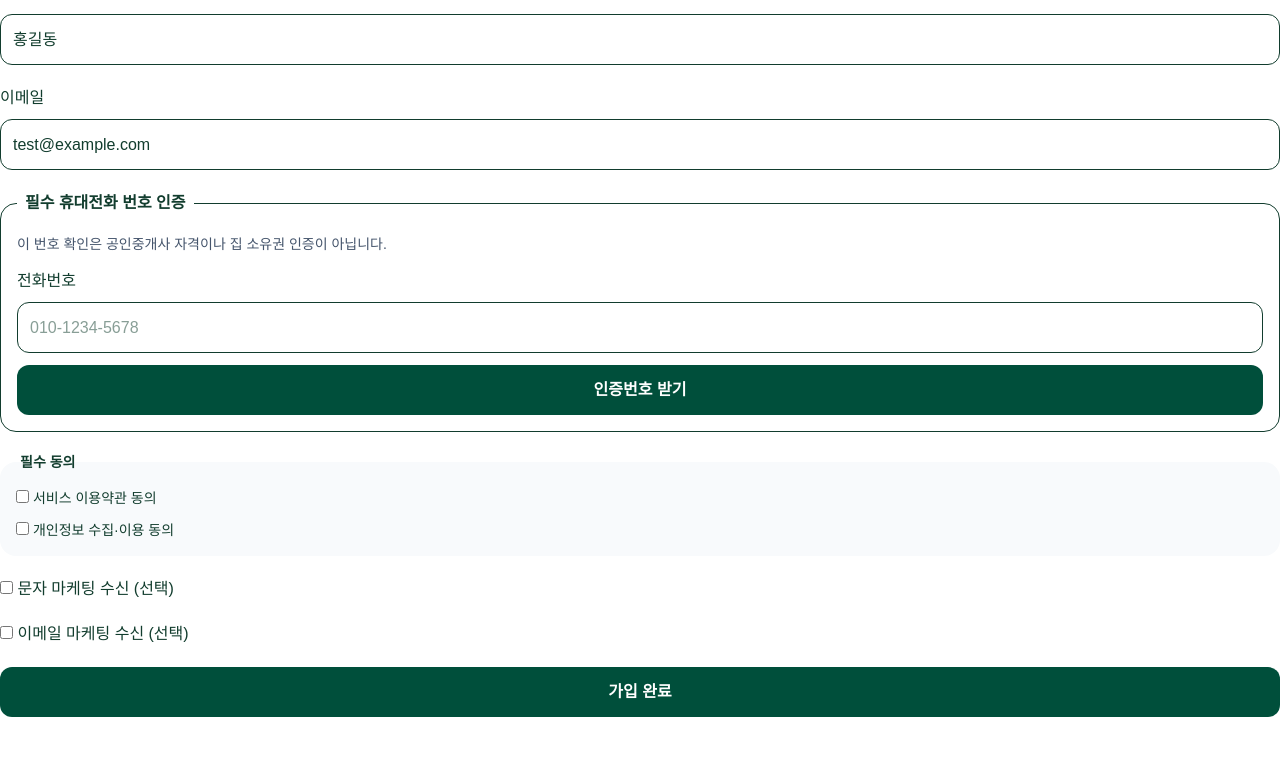
Test: VerificationForm › TEST-ZSD-AUTH-002 explains when the SMS provider is unavailable
This screenshot has width=1280, height=780.
Type "01012345678" into the field labelled "전화번호". click: (640, 327)
box: [17,302,1263,353]
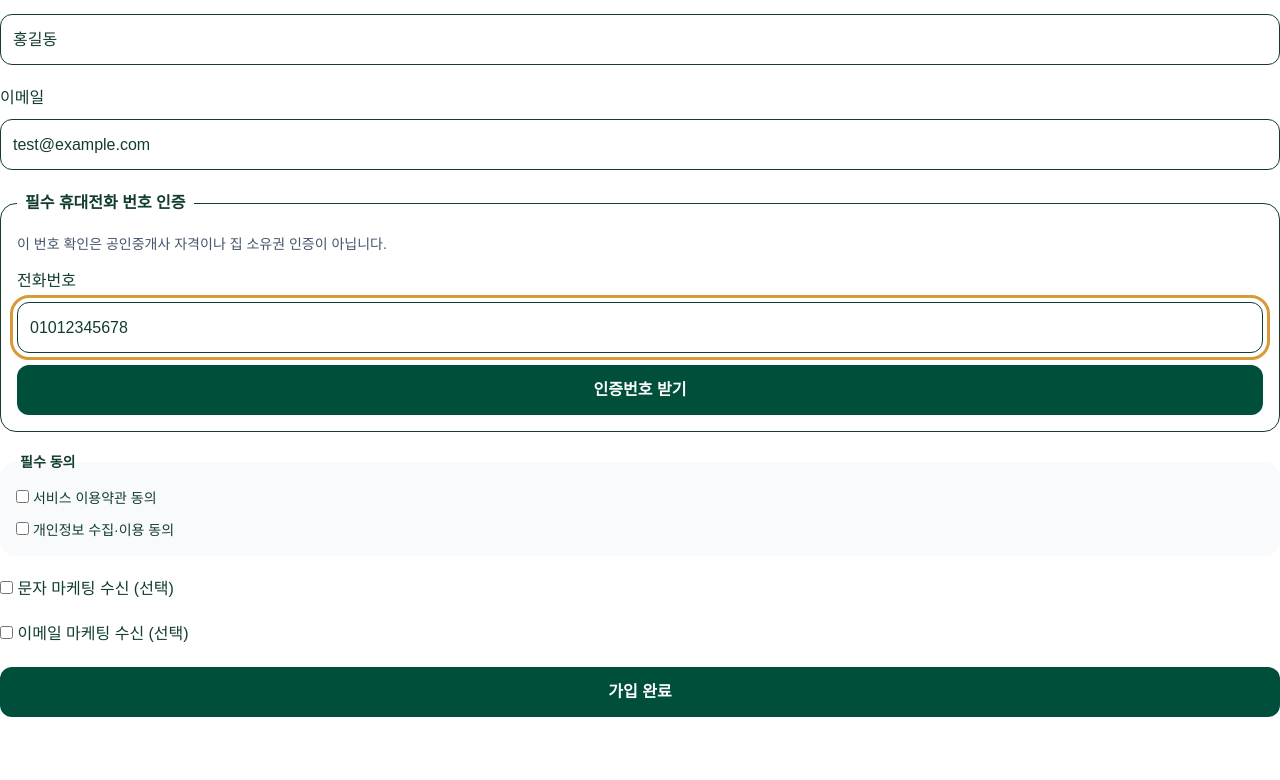
Click the button "인증번호 받기". click: click(640, 390)
box: [17,365,1263,415]
(page scrolled)
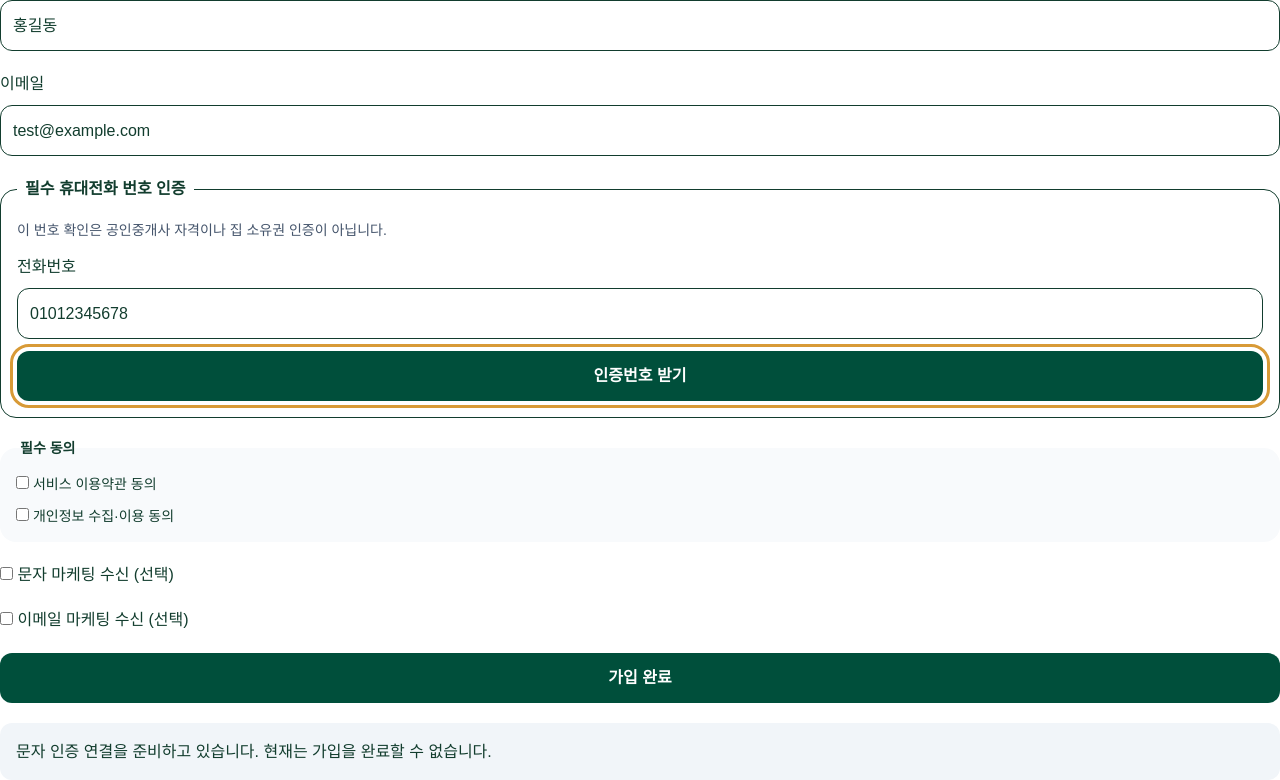
Expected: the text "문자 인증 연결을 준비하고 있습니다. 현재는 가입을 완료할 수 없습니다." is shown, [0,722,1279,779]
